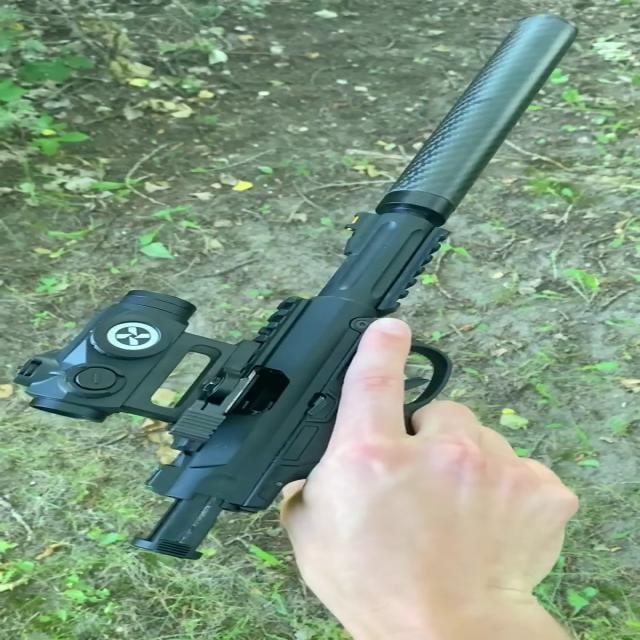Handgun: (6, 10, 586, 570)
